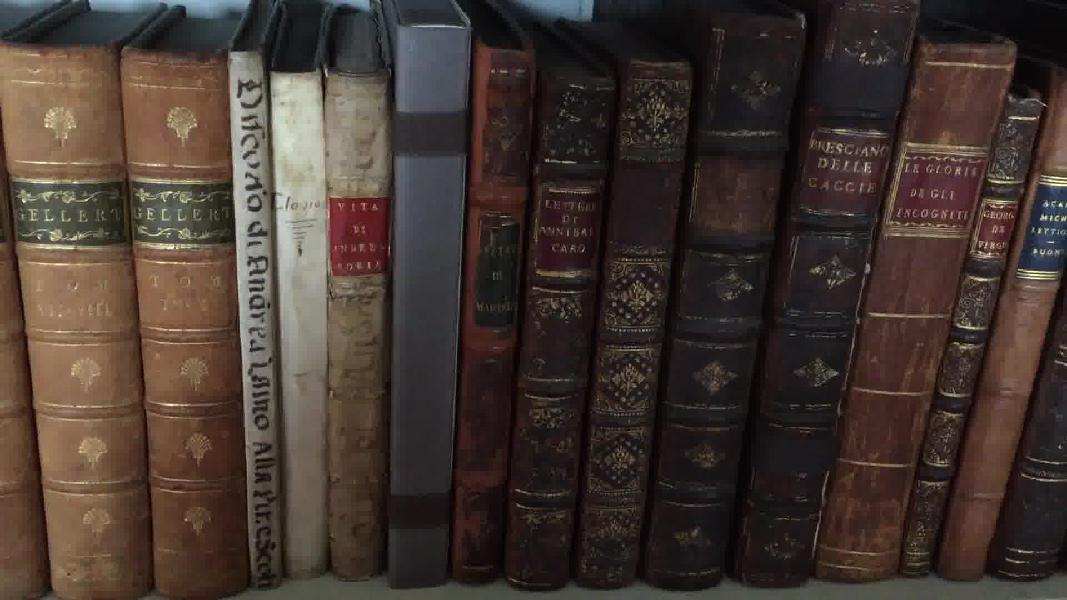Aa6-24: (231, 39, 284, 600)
Aa6-25: (269, 57, 332, 588)
Aa6-26: (321, 46, 394, 584)
Aa6-27: (390, 23, 470, 594)
Aa6-28: (456, 39, 539, 594)
Aa6-29: (504, 59, 608, 600)
Aa6-30: (574, 48, 695, 600)
Aa6-31: (648, 17, 811, 594)
Aa6-32: (712, 1, 932, 600)
Aa6-33: (797, 15, 1043, 600)
Aa6-34: (897, 65, 1039, 570)
